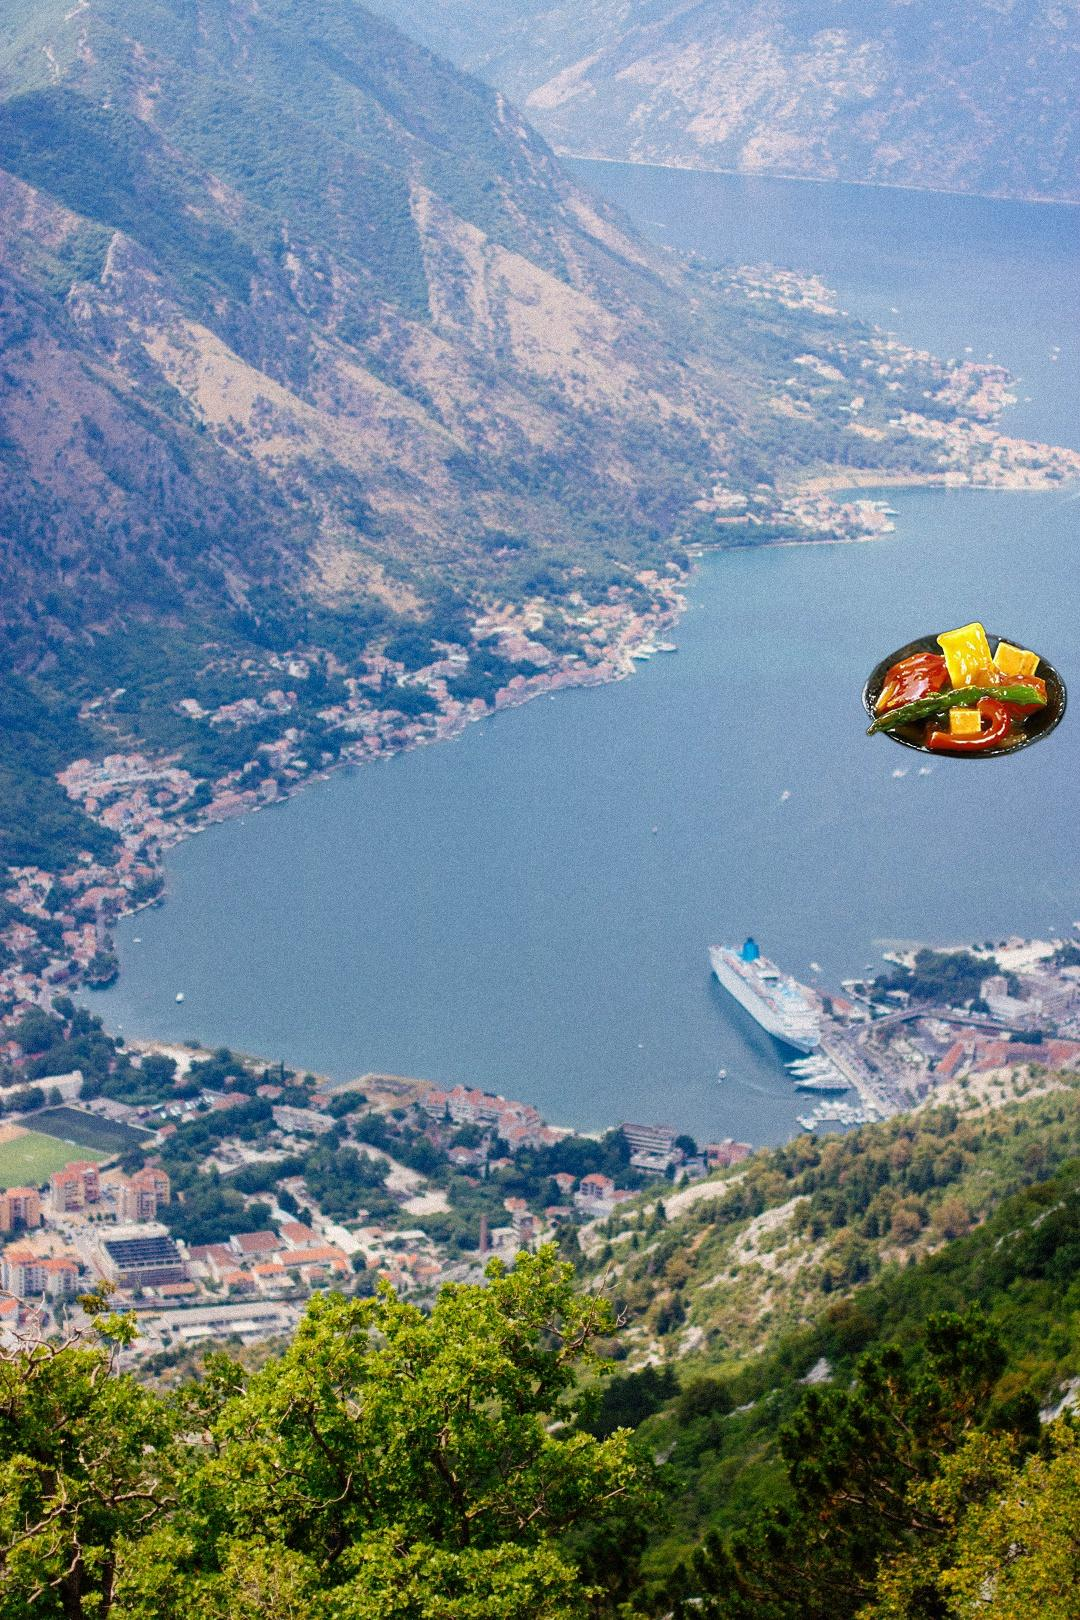biological: (859, 618, 1069, 763)
